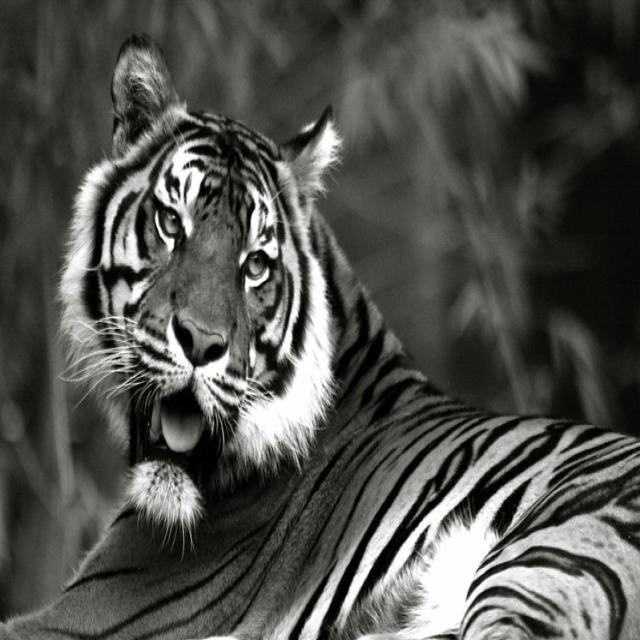Tiger: (52, 30, 639, 638)
